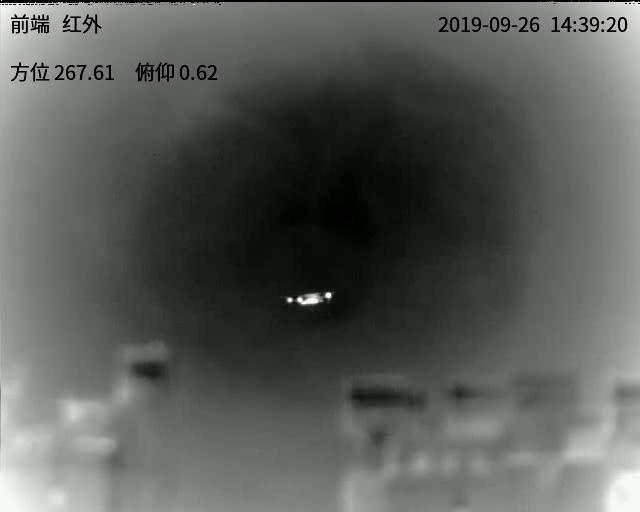DRONE: (283, 290, 334, 308)
